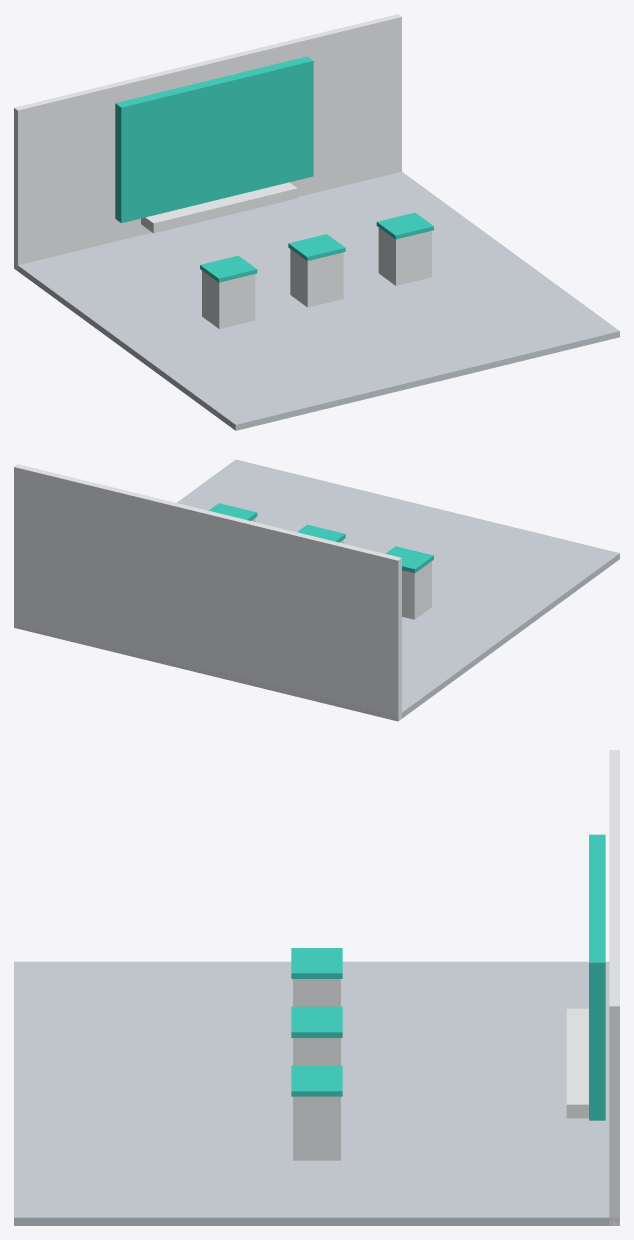
The picture shows the model from 3 angles, top to bottom: view 1: azimuth 30°, elevation 25°; view 2: azimuth 150°, elevation 25°; view 3: azimuth 270°, elevation 25°; orthographic projection. The views are drawn at different scales.
Parts seen in each view (by area): view 1: Exhibition Booth Concept; view 2: Exhibition Booth Concept; view 3: Exhibition Booth Concept.
Boxes of the visible parts, bbox=[...] form: Exhibition Booth Concept: bbox=[14, 14, 619, 430]; Exhibition Booth Concept: bbox=[14, 459, 619, 721]; Exhibition Booth Concept: bbox=[14, 750, 619, 1225].
Size of the model in its own units: 8 by 3.2 by 8.
